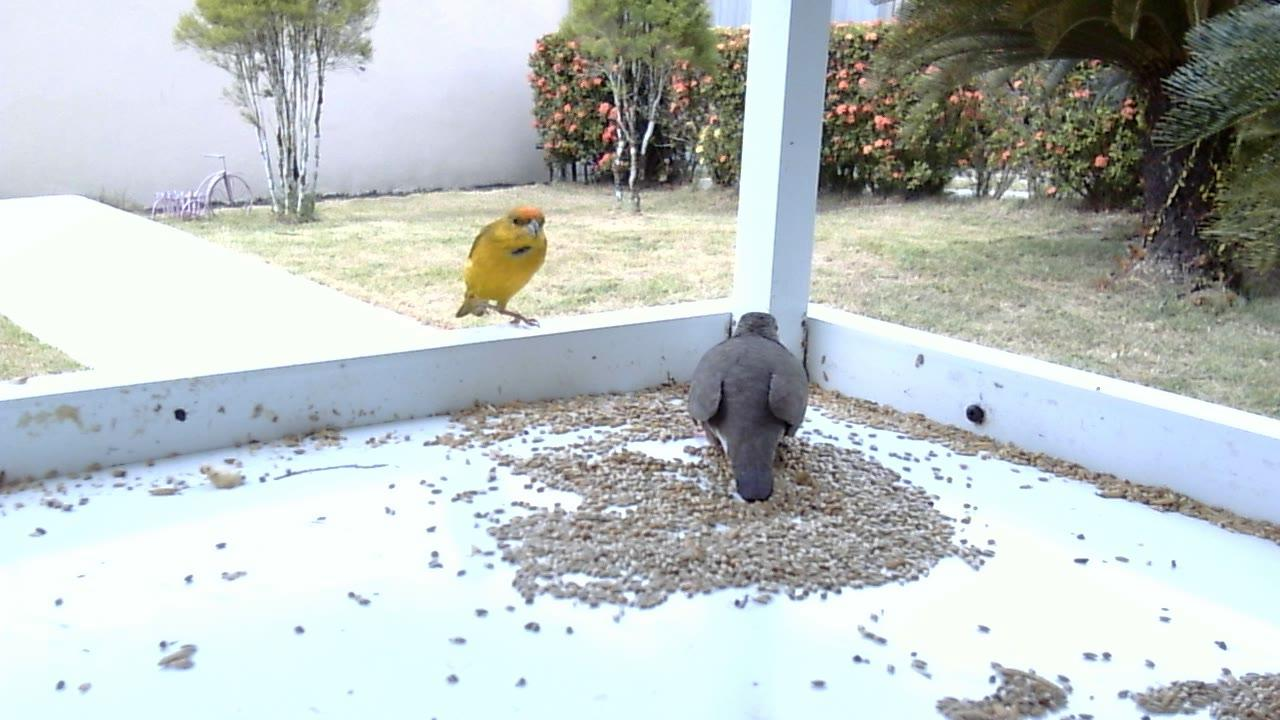canario_do_amazonas: (454, 206, 551, 335)
rolinha: (686, 310, 812, 506)
